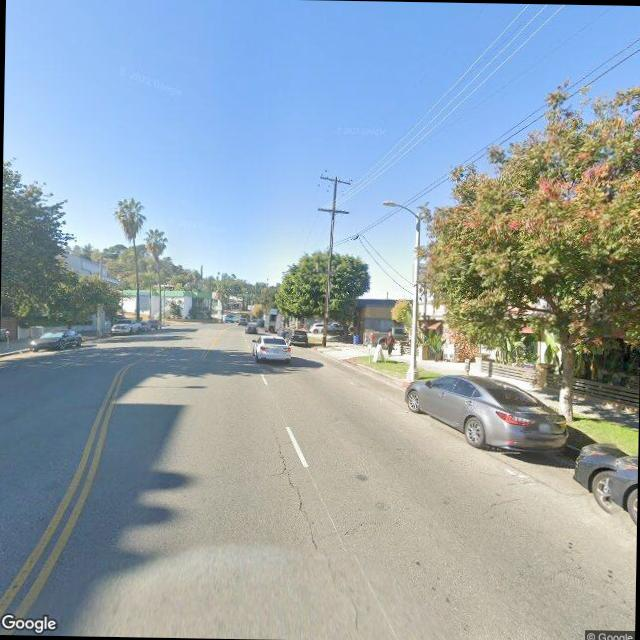crack: (263, 417, 322, 550)
